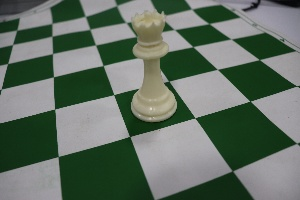white_queen: (126, 3, 182, 127)
